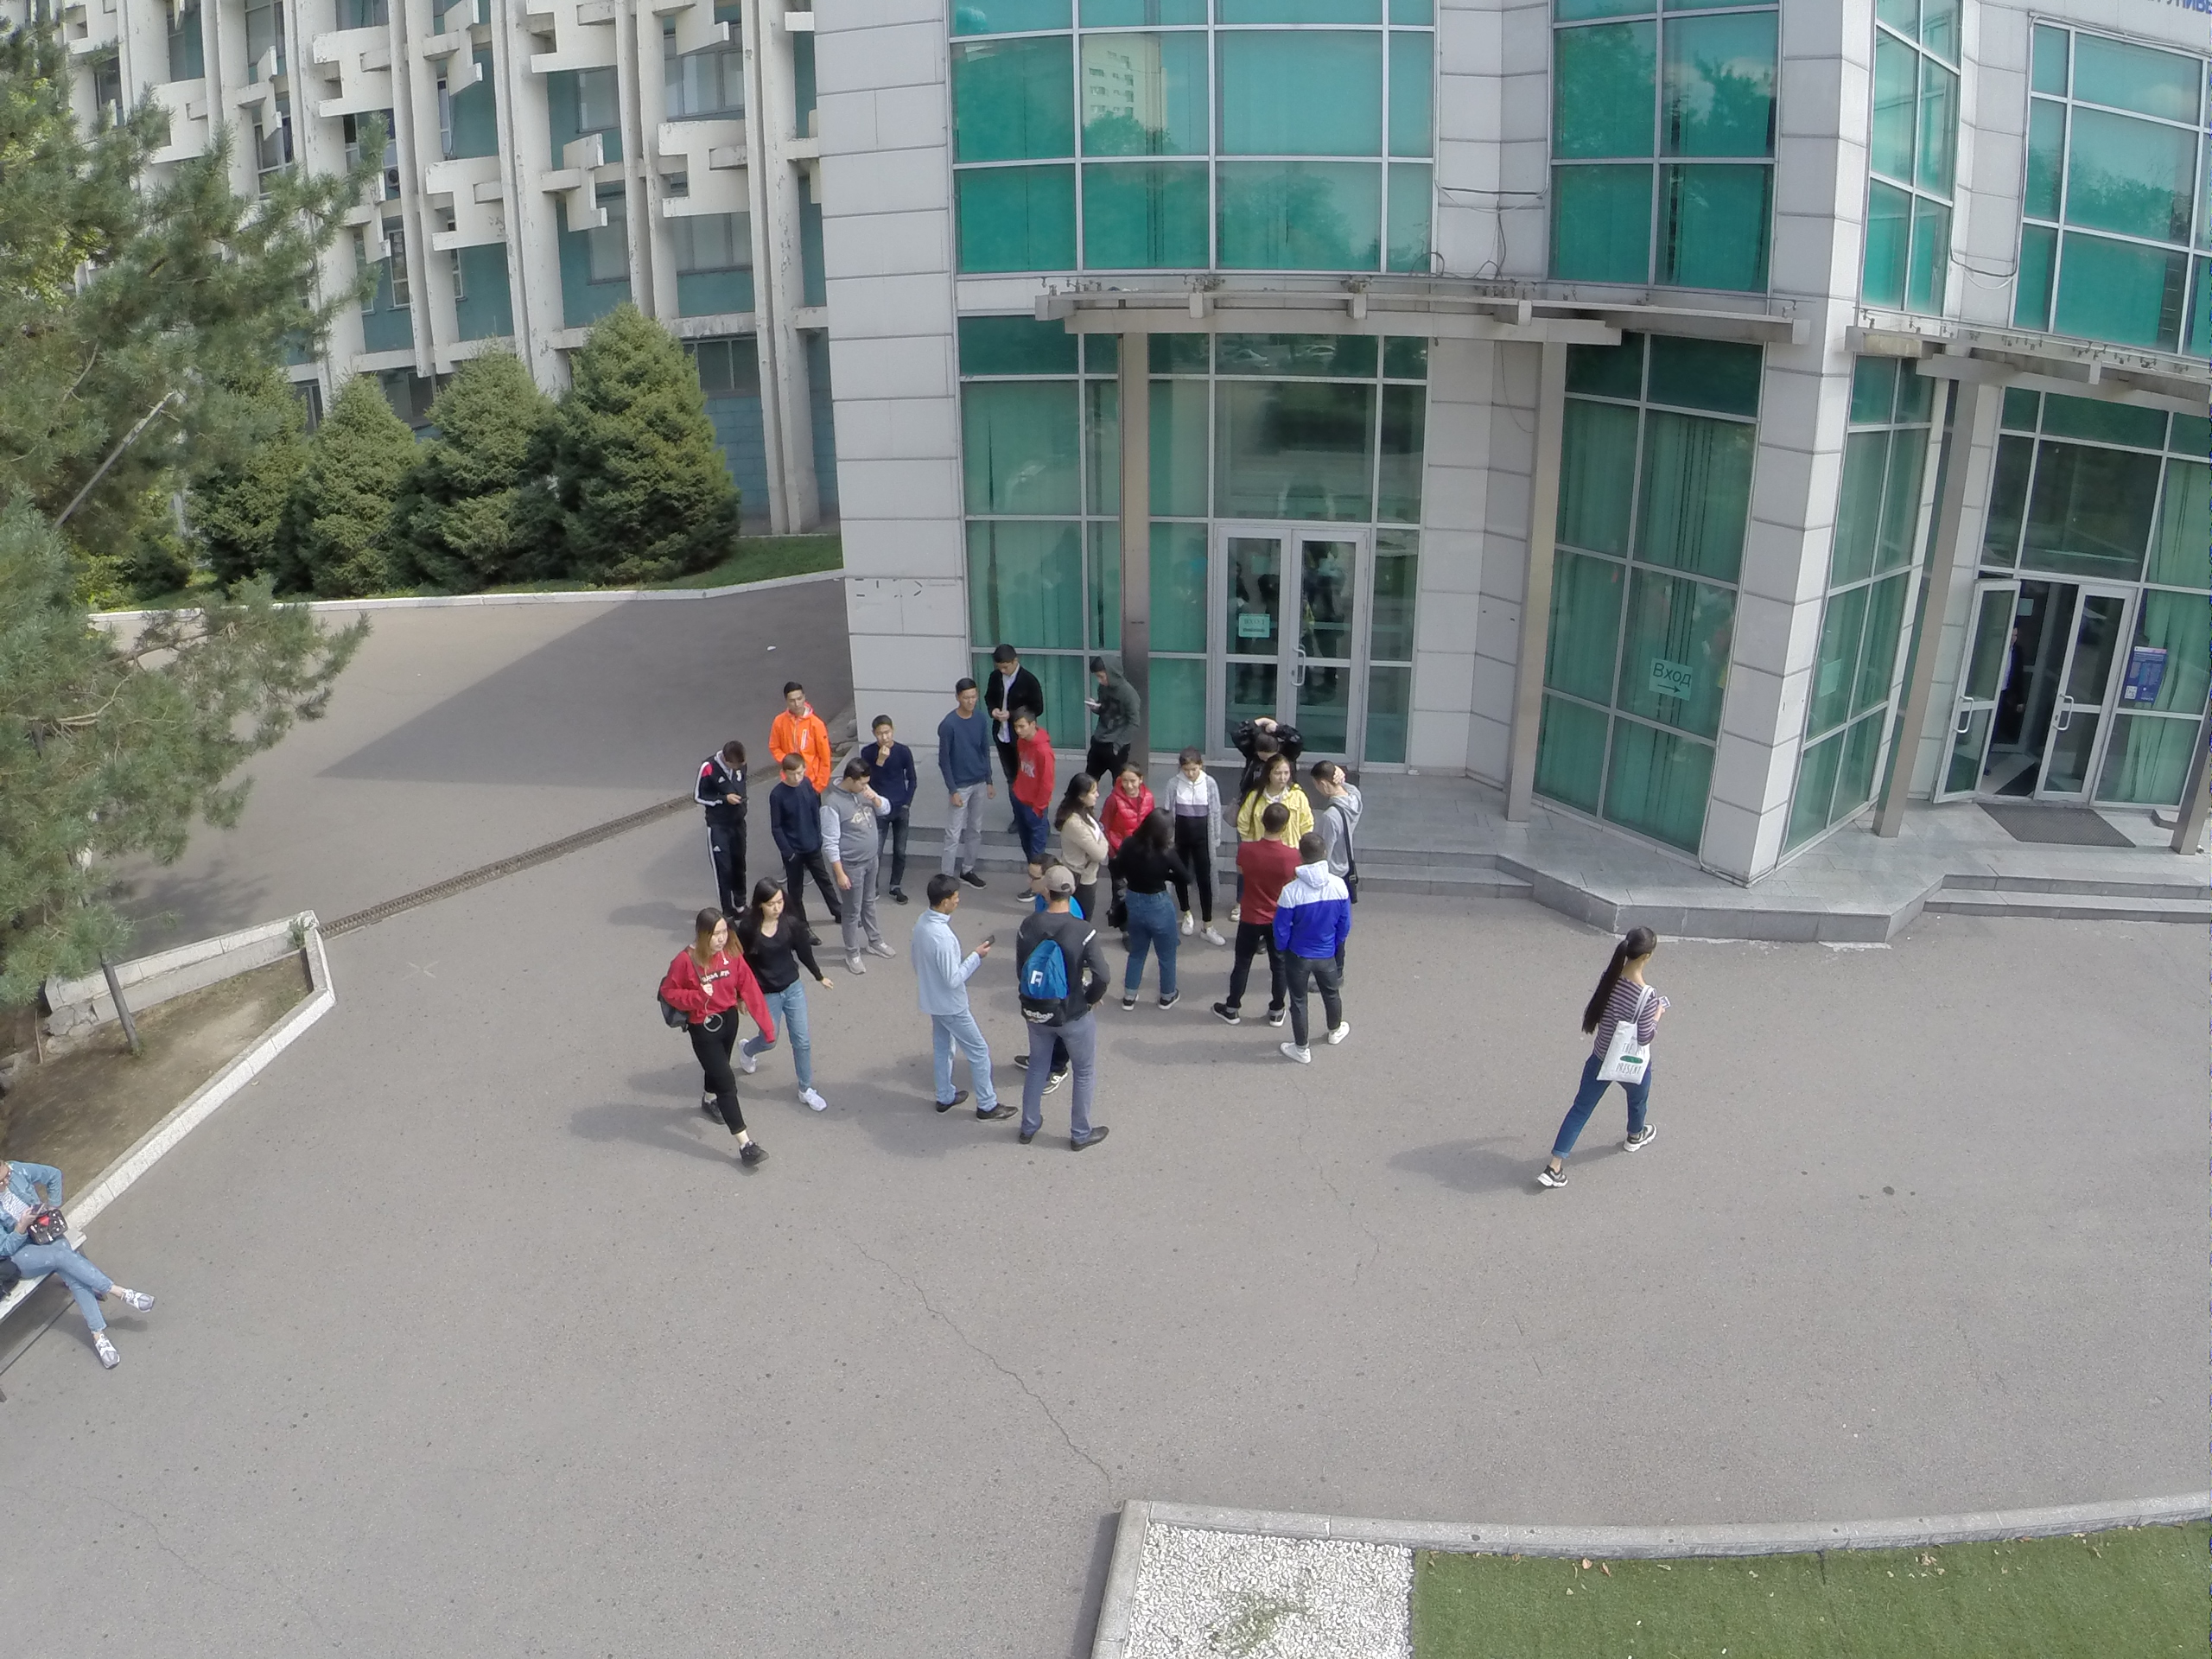person: (1531, 916, 1664, 1192), (1, 1159, 162, 1374), (671, 910, 778, 1166), (1014, 857, 1107, 1148), (911, 869, 1010, 1130), (744, 873, 829, 1126), (815, 751, 901, 976), (1283, 829, 1354, 1060), (1118, 794, 1185, 1019), (1224, 798, 1288, 1027), (933, 673, 992, 890), (1168, 747, 1229, 955), (690, 734, 757, 908), (999, 698, 1059, 874), (766, 769, 836, 917), (864, 715, 912, 899), (1309, 754, 1370, 905), (1050, 760, 1109, 873), (1077, 644, 1133, 760), (1251, 756, 1309, 854), (773, 681, 838, 769), (986, 634, 1043, 713), (1101, 748, 1150, 836), (1229, 716, 1311, 762)
